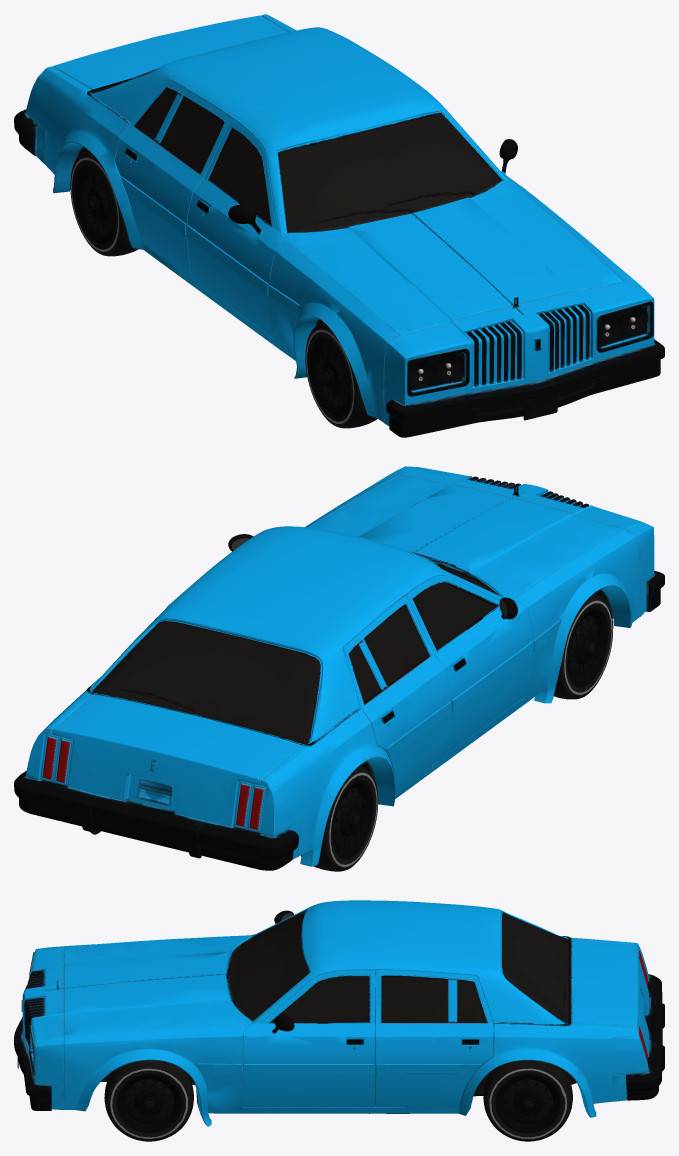
Rendered from sedan.glb.
3 renders of one model, top to bottom at view 1: azimuth 30°, elevation 25°; view 2: azimuth 150°, elevation 25°; view 3: azimuth 270°, elevation 25°, orthographic. The views are drawn at different scales.
Visible parts, largest first — view 1: node_id35, node_id90, node_id77, node_id70, node_id10, node_id7, node_id73, node_id83, node_id32, node_id67; view 2: node_id35, node_id87, node_id77, node_id70, node_id10, node_id73, node_id7, node_id32, node_id83, node_id107, node_id67; view 3: node_id35, node_id57, node_id50, node_id10, node_id7, node_id90, node_id87, node_id53, node_id63, node_id32, node_id47, node_id60.
Boxes of the visible parts, x1,y1,x2,y2 form: node_id35: (14,14,664,437); node_id90: (278,114,500,232); node_id77: (186,119,284,338); node_id70: (114,79,231,278); node_id10: (75,165,350,415); node_id7: (70,150,377,428); node_id73: (137,88,224,172); node_id83: (210,129,270,223); node_id32: (87,78,518,305); node_id67: (134,86,225,174); node_id35: (14,466,664,870); node_id87: (94,622,319,743); node_id77: (406,575,533,754); node_id70: (343,595,451,791); node_id10: (332,608,608,858); node_id73: (349,605,427,702); node_id7: (300,593,613,871); node_id32: (40,485,518,833); node_id83: (413,583,494,649); node_id107: (42,735,264,830); node_id67: (348,603,430,705); node_id35: (14,900,664,1126); node_id57: (243,970,375,1107); node_id50: (375,970,493,1107); node_id10: (116,1074,560,1132); node_id7: (104,1060,572,1141); node_id90: (229,911,309,1020); node_id87: (502,913,568,1023); node_id53: (375,975,486,1021); node_id63: (272,976,368,1022); node_id32: (18,909,646,1060); node_id47: (380,975,488,1023); node_id60: (267,975,370,1023).
Size of the model in its own units: 0.512 by 0.351 by 1.25.
Materials: 26 (26 with a texture image).
